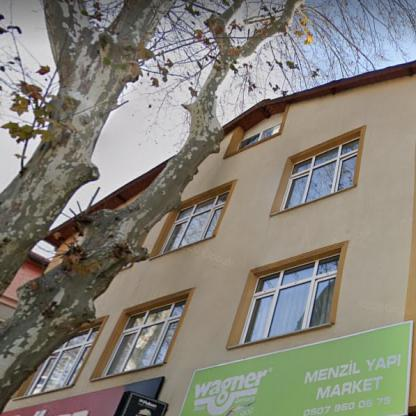window: (243, 254, 339, 343), (103, 299, 187, 376), (283, 138, 359, 210), (34, 325, 100, 392), (162, 191, 228, 253), (239, 123, 280, 149)
